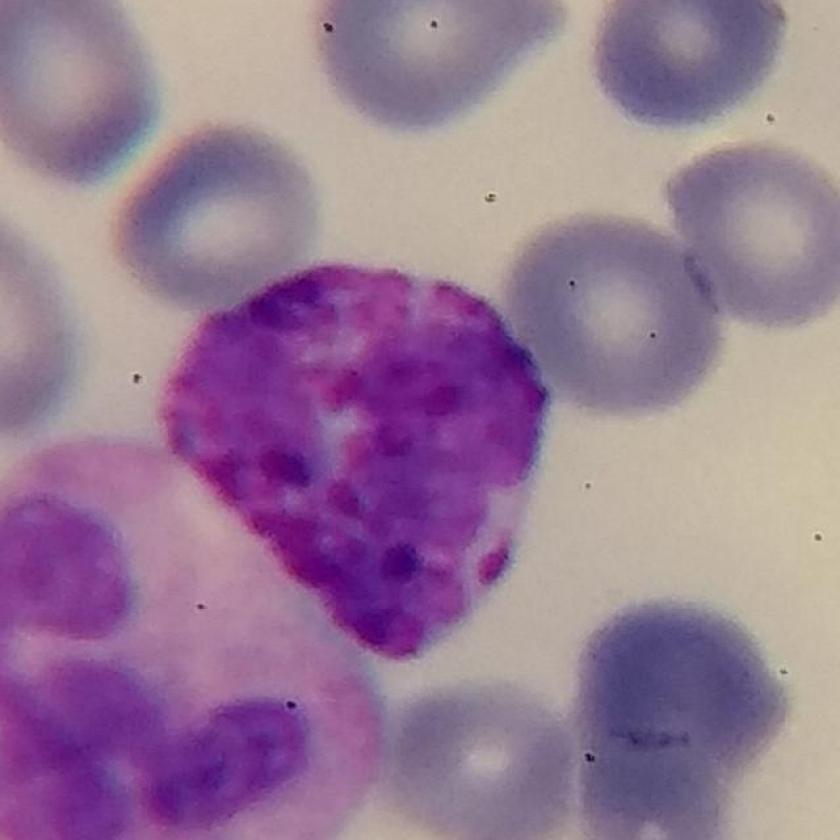basophil: (160, 241, 568, 665)
